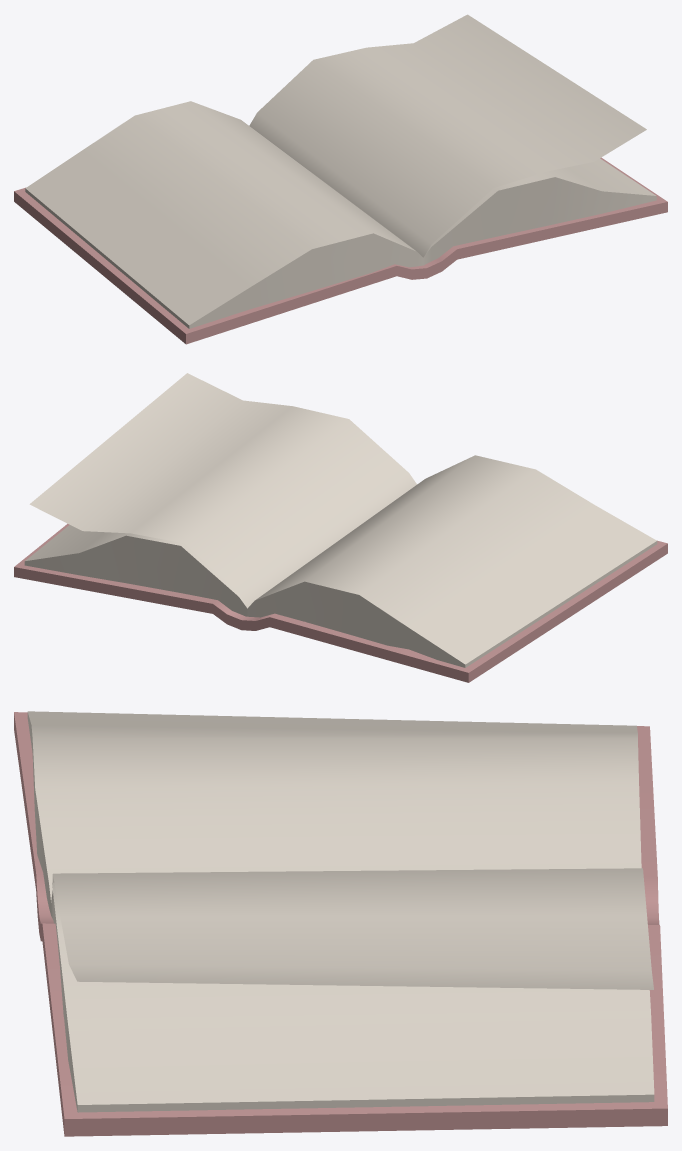
File: book.fbx
The picture shows the model from 3 angles, top to bottom: view 1: azimuth 30°, elevation 25°; view 2: azimuth 150°, elevation 25°; view 3: azimuth 270°, elevation 25°; orthographic projection. The views are drawn at different scales.
Visible parts, largest first — view 1: polySurface8, pCube11; view 2: polySurface8, pCube11; view 3: polySurface8, pCube11.
Boxes of the visible parts, x1,y1,x2,y2 form: polySurface8: [25, 14, 656, 328]; pCube11: [14, 157, 667, 344]; polySurface8: [24, 373, 657, 667]; pCube11: [14, 523, 667, 682]; polySurface8: [27, 711, 654, 1112]; pCube11: [14, 712, 667, 1136].
Bounding box in the file's own units: 75.63 × 12.24 × 51.35.
